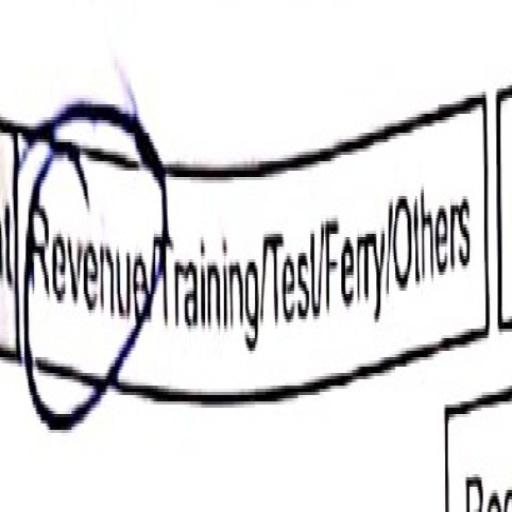check: (16, 44, 158, 468)
